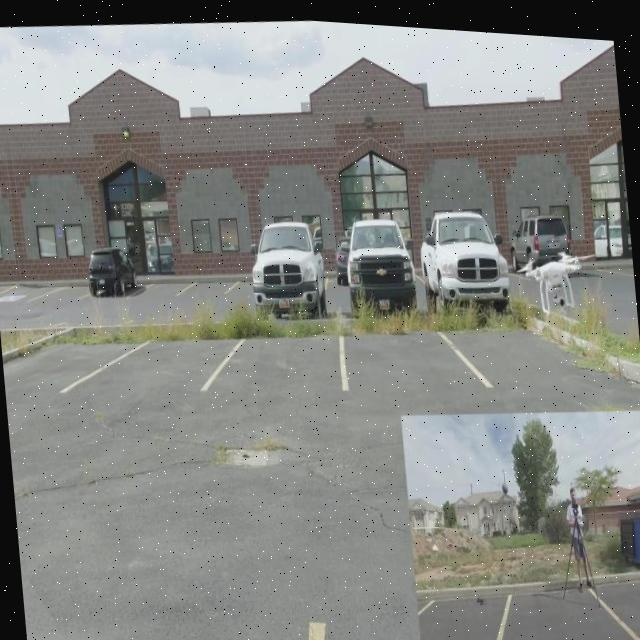drone: (512, 234, 600, 308)
